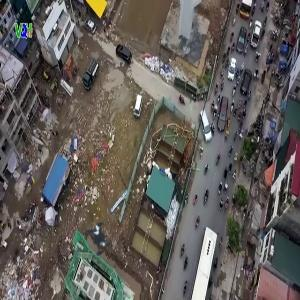drone: (67, 207, 133, 273)
